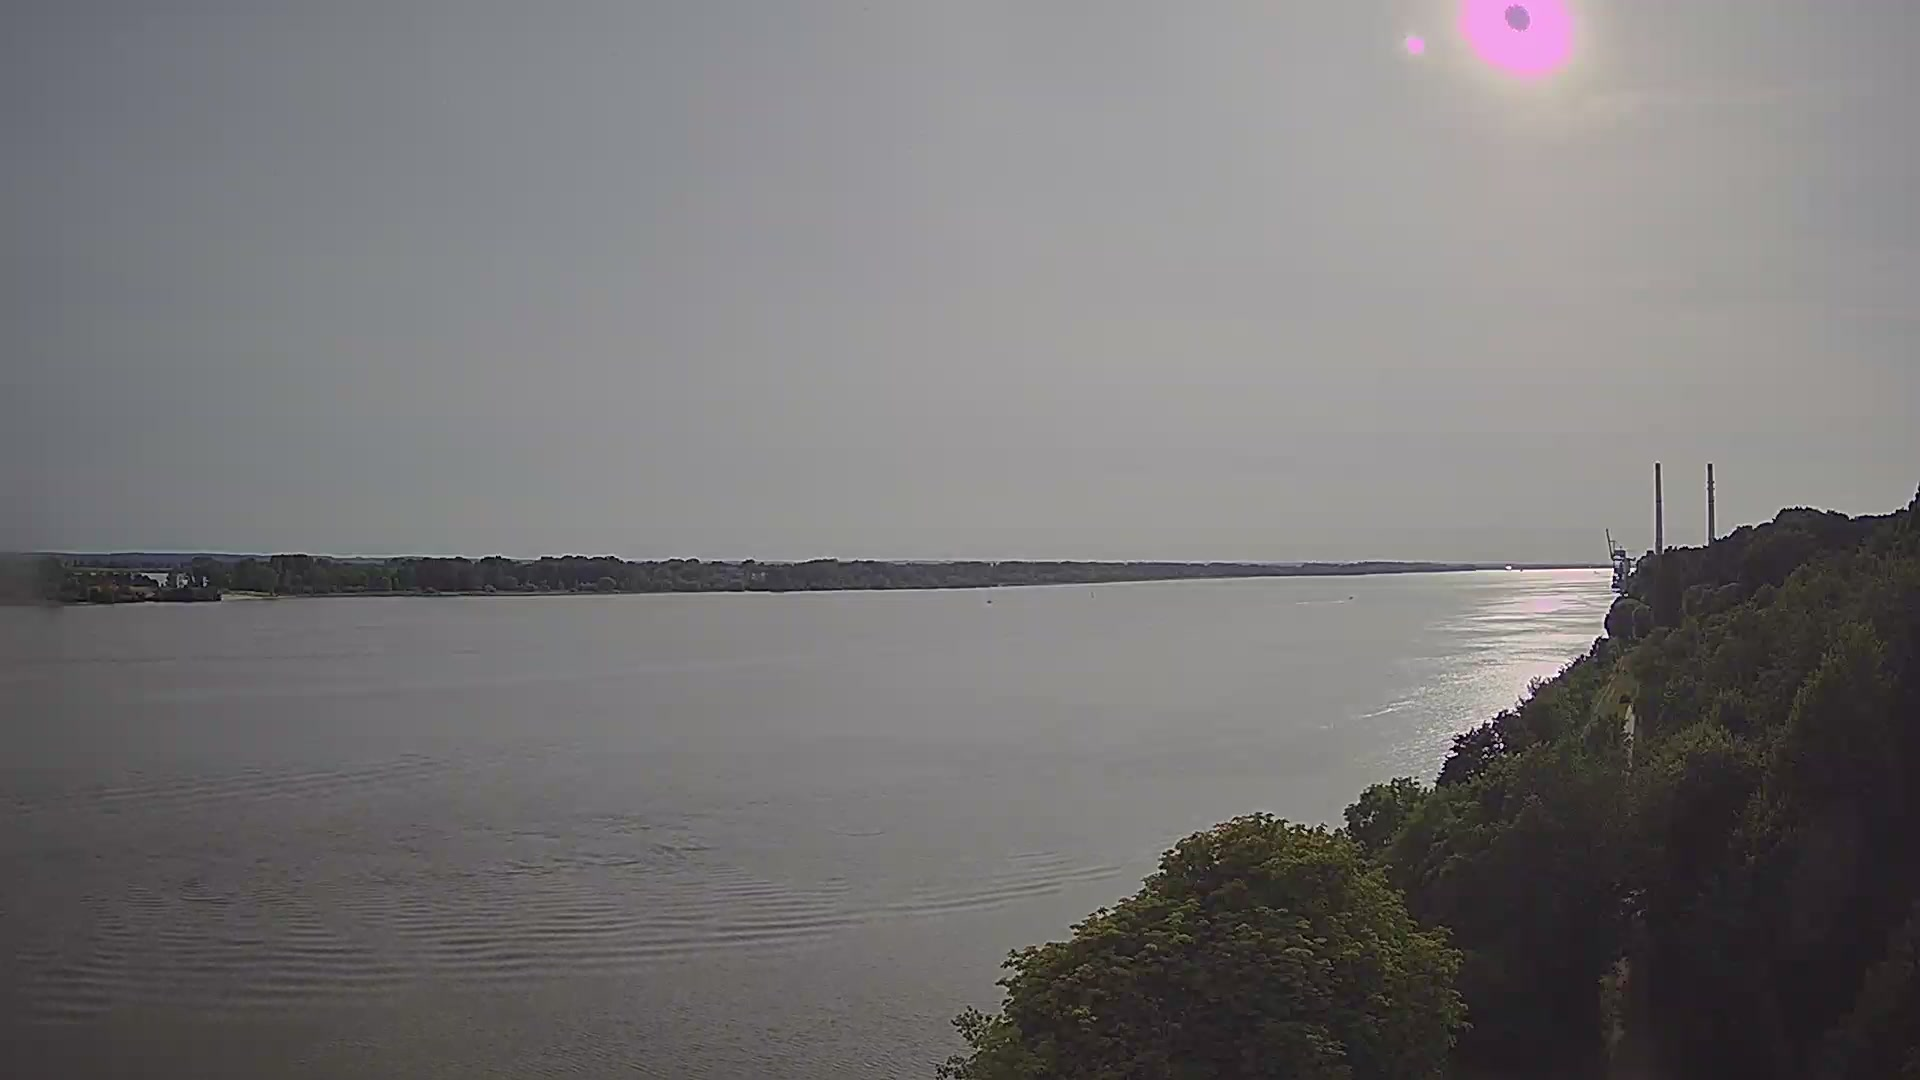human: (934, 1063, 943, 1080)
sea: (1348, 594, 1354, 600)
